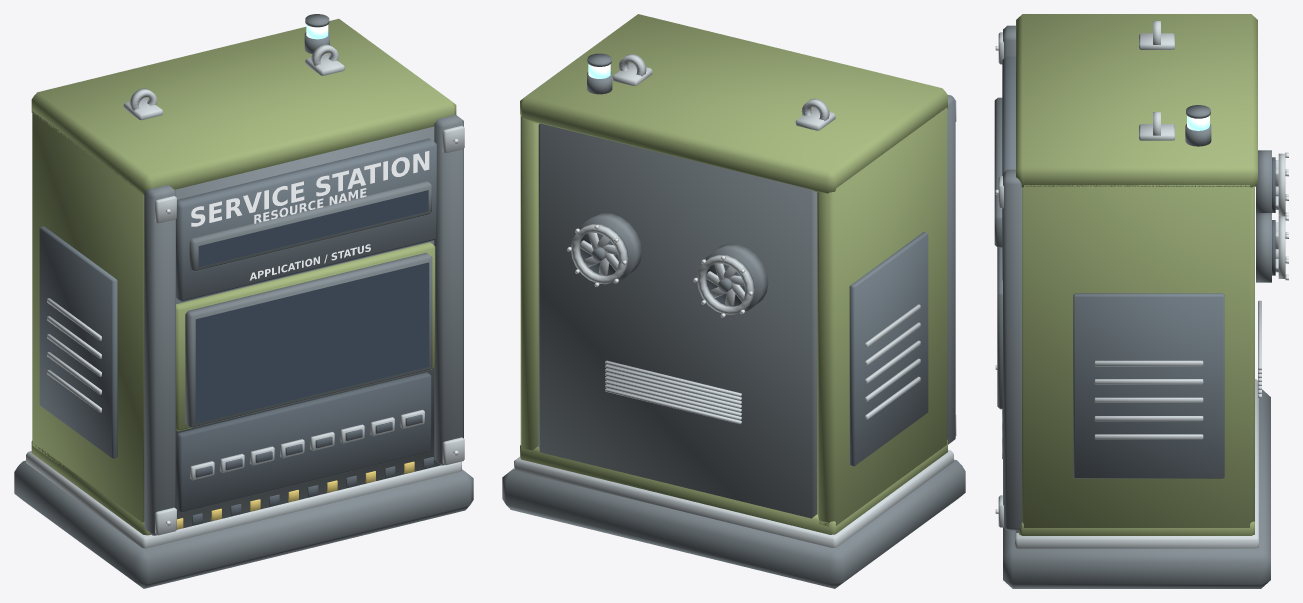
Rendered from service_station_standard.glb.
3 renders of one model, left to right at view 1: azimuth 30°, elevation 25°; view 2: azimuth 150°, elevation 25°; view 3: azimuth 270°, elevation 25°, orthographic. The views are drawn at different scales.
Parts seen in each view (by area): view 1: Roof_olive, LiveViewSurface_glass, SideWall_olive, CornerPost_frame, Skid_frame, PatchPanel_black, FrontHeader_graphite, SideServicePanel_graphite, SealFront_frame, SkidDeck_steel, LiveViewSurfaceFrame_frame, ResourceNameSurface_glass (+13 smaller); view 2: BackWall_frame, Roof_olive, SideWall_olive, Skid_frame, SideServicePanel_graphite, SkidDeck_steel, KickPlate_olive, RearFan_steel, RearVent_steel, CornerPost_frame, RearFan_frame, SideLouver_steel (+3 smaller); view 3: SideWall_olive, Roof_olive, SideServicePanel_graphite, Skid_frame, CornerPost_frame, SkidDeck_steel, SideLouver_steel, RearFan_frame, KickPlate_olive, FrontHeader_graphite, RearFan_steel, ResourceNameSurfaceFrame_frame (+6 smaller).
Part boxes in pixels (x1=…): Roof_olive: x1=31, y1=18, x2=456, y2=194; LiveViewSurface_glass: x1=195, y1=262, x2=429, y2=423; SideWall_olive: x1=32, y1=111, x2=144, y2=522; CornerPost_frame: x1=144, y1=114, x2=463, y2=535; Skid_frame: x1=14, y1=460, x2=473, y2=588; PatchPanel_black: x1=177, y1=372, x2=431, y2=512; FrontHeader_graphite: x1=176, y1=138, x2=436, y2=301; SideServicePanel_graphite: x1=39, y1=226, x2=117, y2=458; SealFront_frame: x1=151, y1=126, x2=440, y2=535; SkidDeck_steel: x1=26, y1=451, x2=461, y2=548; LiveViewSurfaceFrame_frame: x1=185, y1=252, x2=432, y2=428; ResourceNameSurface_glass: x1=198, y1=190, x2=428, y2=267; BackWall_frame: x1=538, y1=123, x2=817, y2=518; Roof_olive: x1=520, y1=14, x2=947, y2=193; SideWall_olive: x1=520, y1=107, x2=947, y2=526; Skid_frame: x1=502, y1=459, x2=965, y2=588; SideServicePanel_graphite: x1=849, y1=232, x2=928, y2=466; SkidDeck_steel: x1=514, y1=450, x2=953, y2=547; KickPlate_olive: x1=520, y1=439, x2=947, y2=534; RearFan_steel: x1=571, y1=224, x2=754, y2=314; RearVent_steel: x1=605, y1=360, x2=741, y2=424; CornerPost_frame: x1=947, y1=95, x2=955, y2=444; RearFan_frame: x1=579, y1=213, x2=768, y2=313; SideLouver_steel: x1=865, y1=304, x2=920, y2=419; SideWall_olive: x1=1022, y1=185, x2=1254, y2=527; Roof_olive: x1=1016, y1=14, x2=1257, y2=187; SideServicePanel_graphite: x1=1073, y1=293, x2=1224, y2=478; Skid_frame: x1=1003, y1=389, x2=1270, y2=588; CornerPost_frame: x1=1003, y1=25, x2=1021, y2=530; SkidDeck_steel: x1=1015, y1=379, x2=1258, y2=548; SideLouver_steel: x1=1094, y1=360, x2=1203, y2=439; RearFan_frame: x1=1256, y1=150, x2=1271, y2=282; KickPlate_olive: x1=1019, y1=521, x2=1254, y2=535; FrontHeader_graphite: x1=1002, y1=56, x2=1015, y2=280; RearFan_steel: x1=1275, y1=153, x2=1285, y2=278; ResourceNameSurfaceFrame_frame: x1=994, y1=97, x2=1002, y2=247.
Bounding box in the file's own units: 2 × 2.48 × 1.47.
